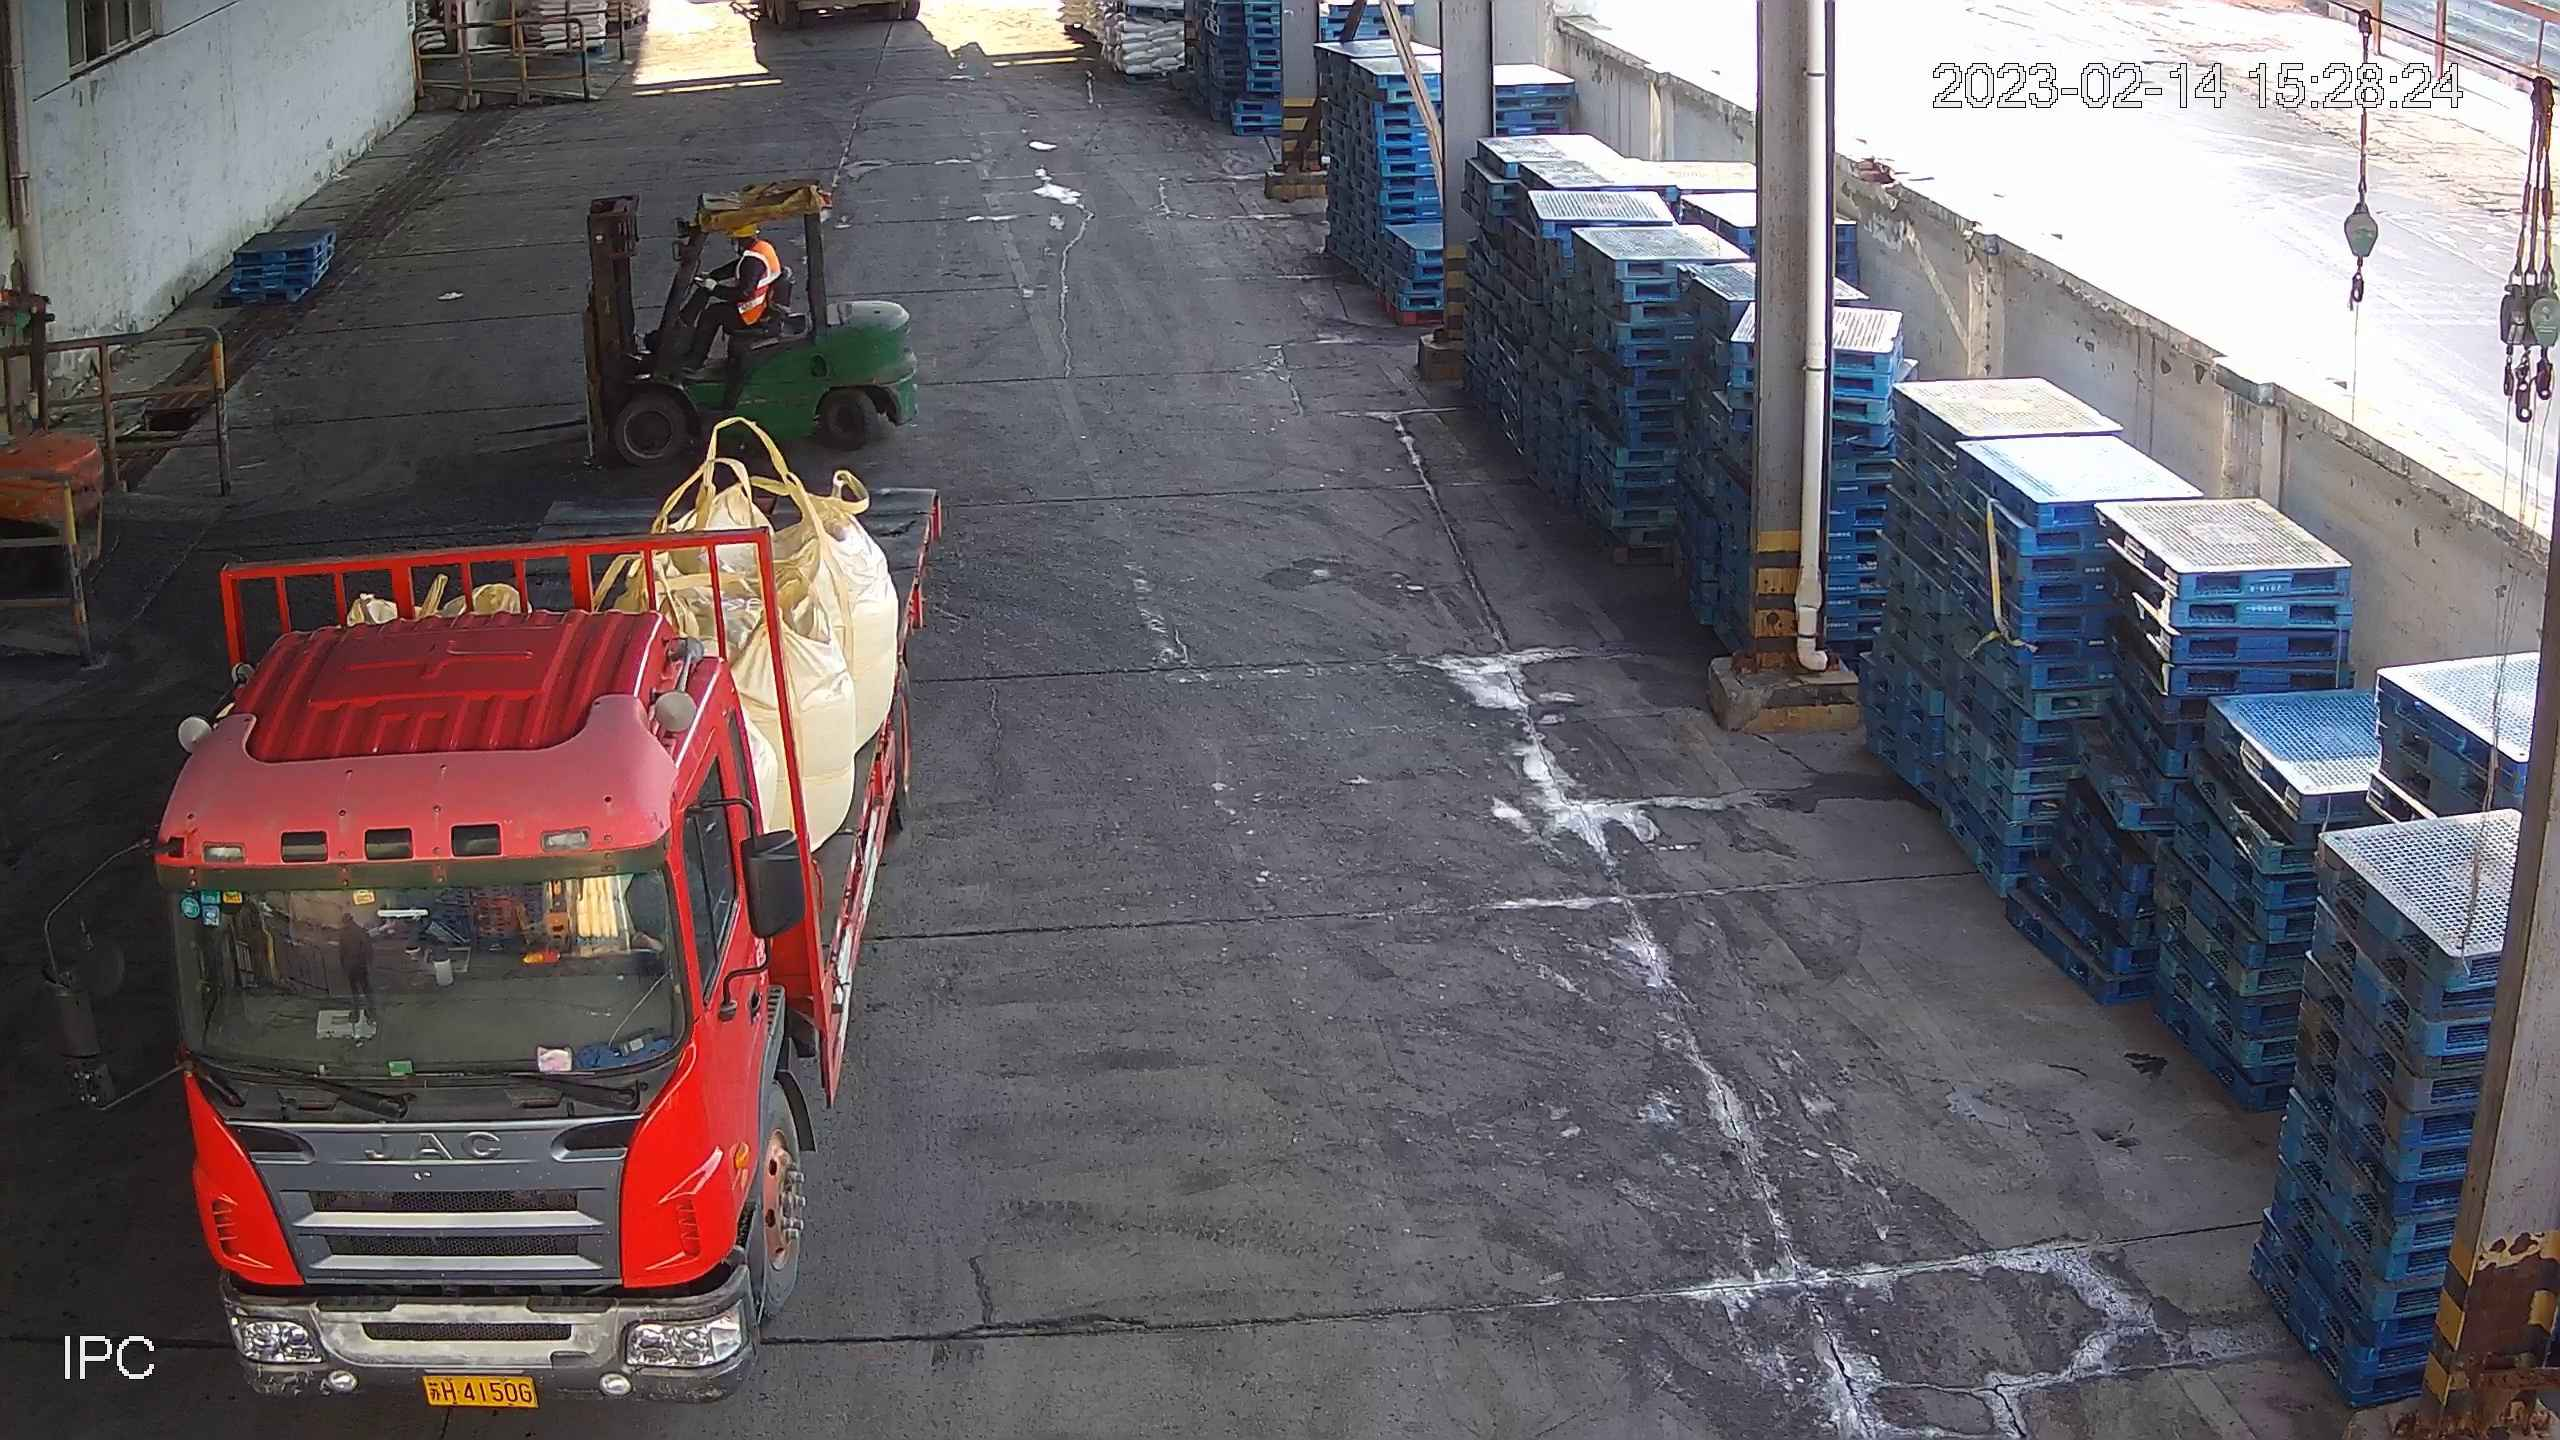head: (729, 223, 780, 276)
helmet: (728, 223, 759, 238)
people: (674, 222, 783, 368)
truck: (36, 486, 943, 1412)
